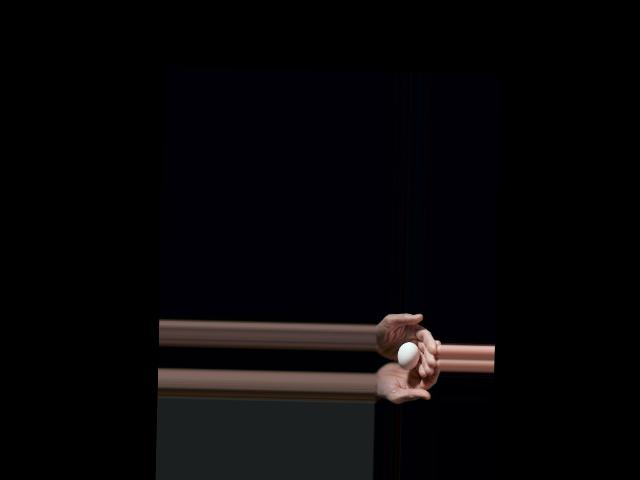egg: (397, 341, 420, 370)
